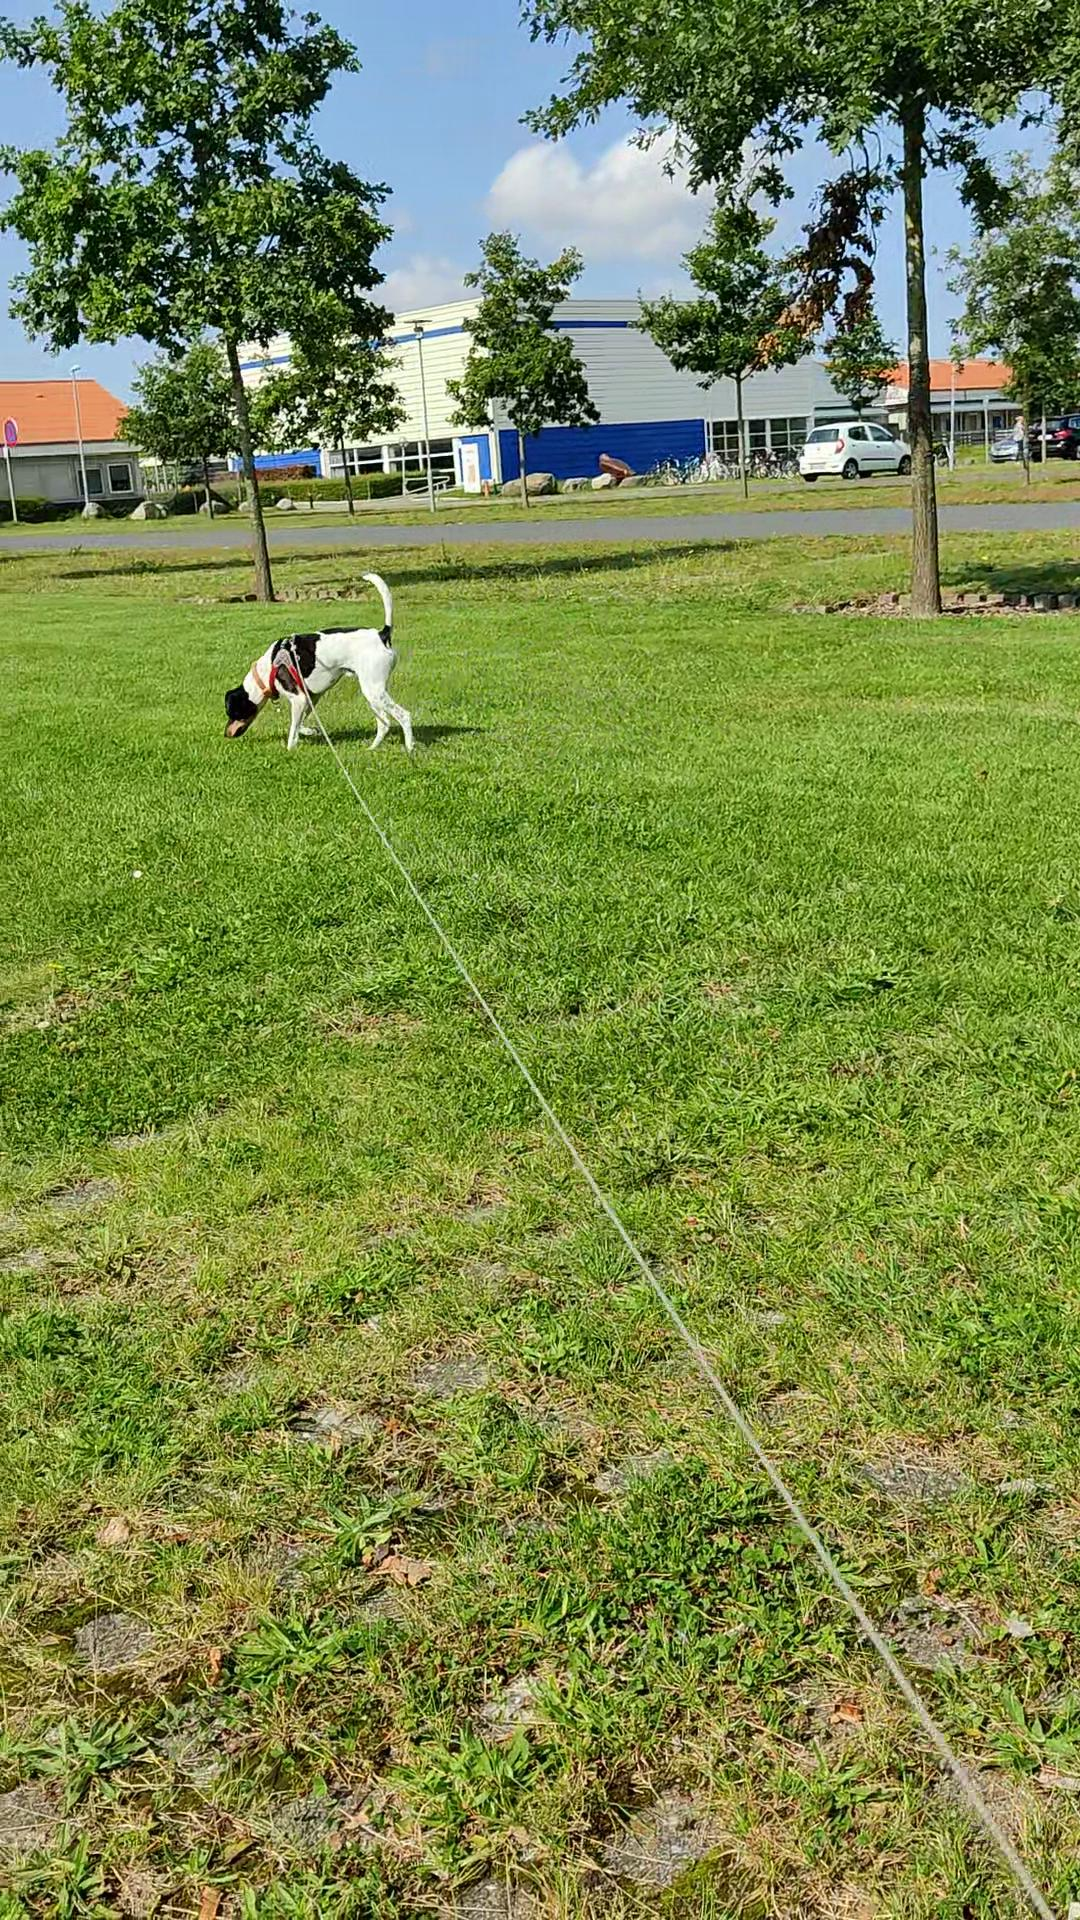Dog: (218, 568, 414, 752)
